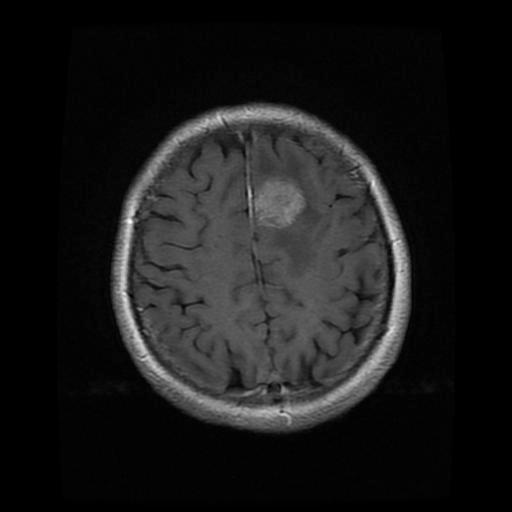Tumour-Meningioma: (246, 165, 325, 247)
